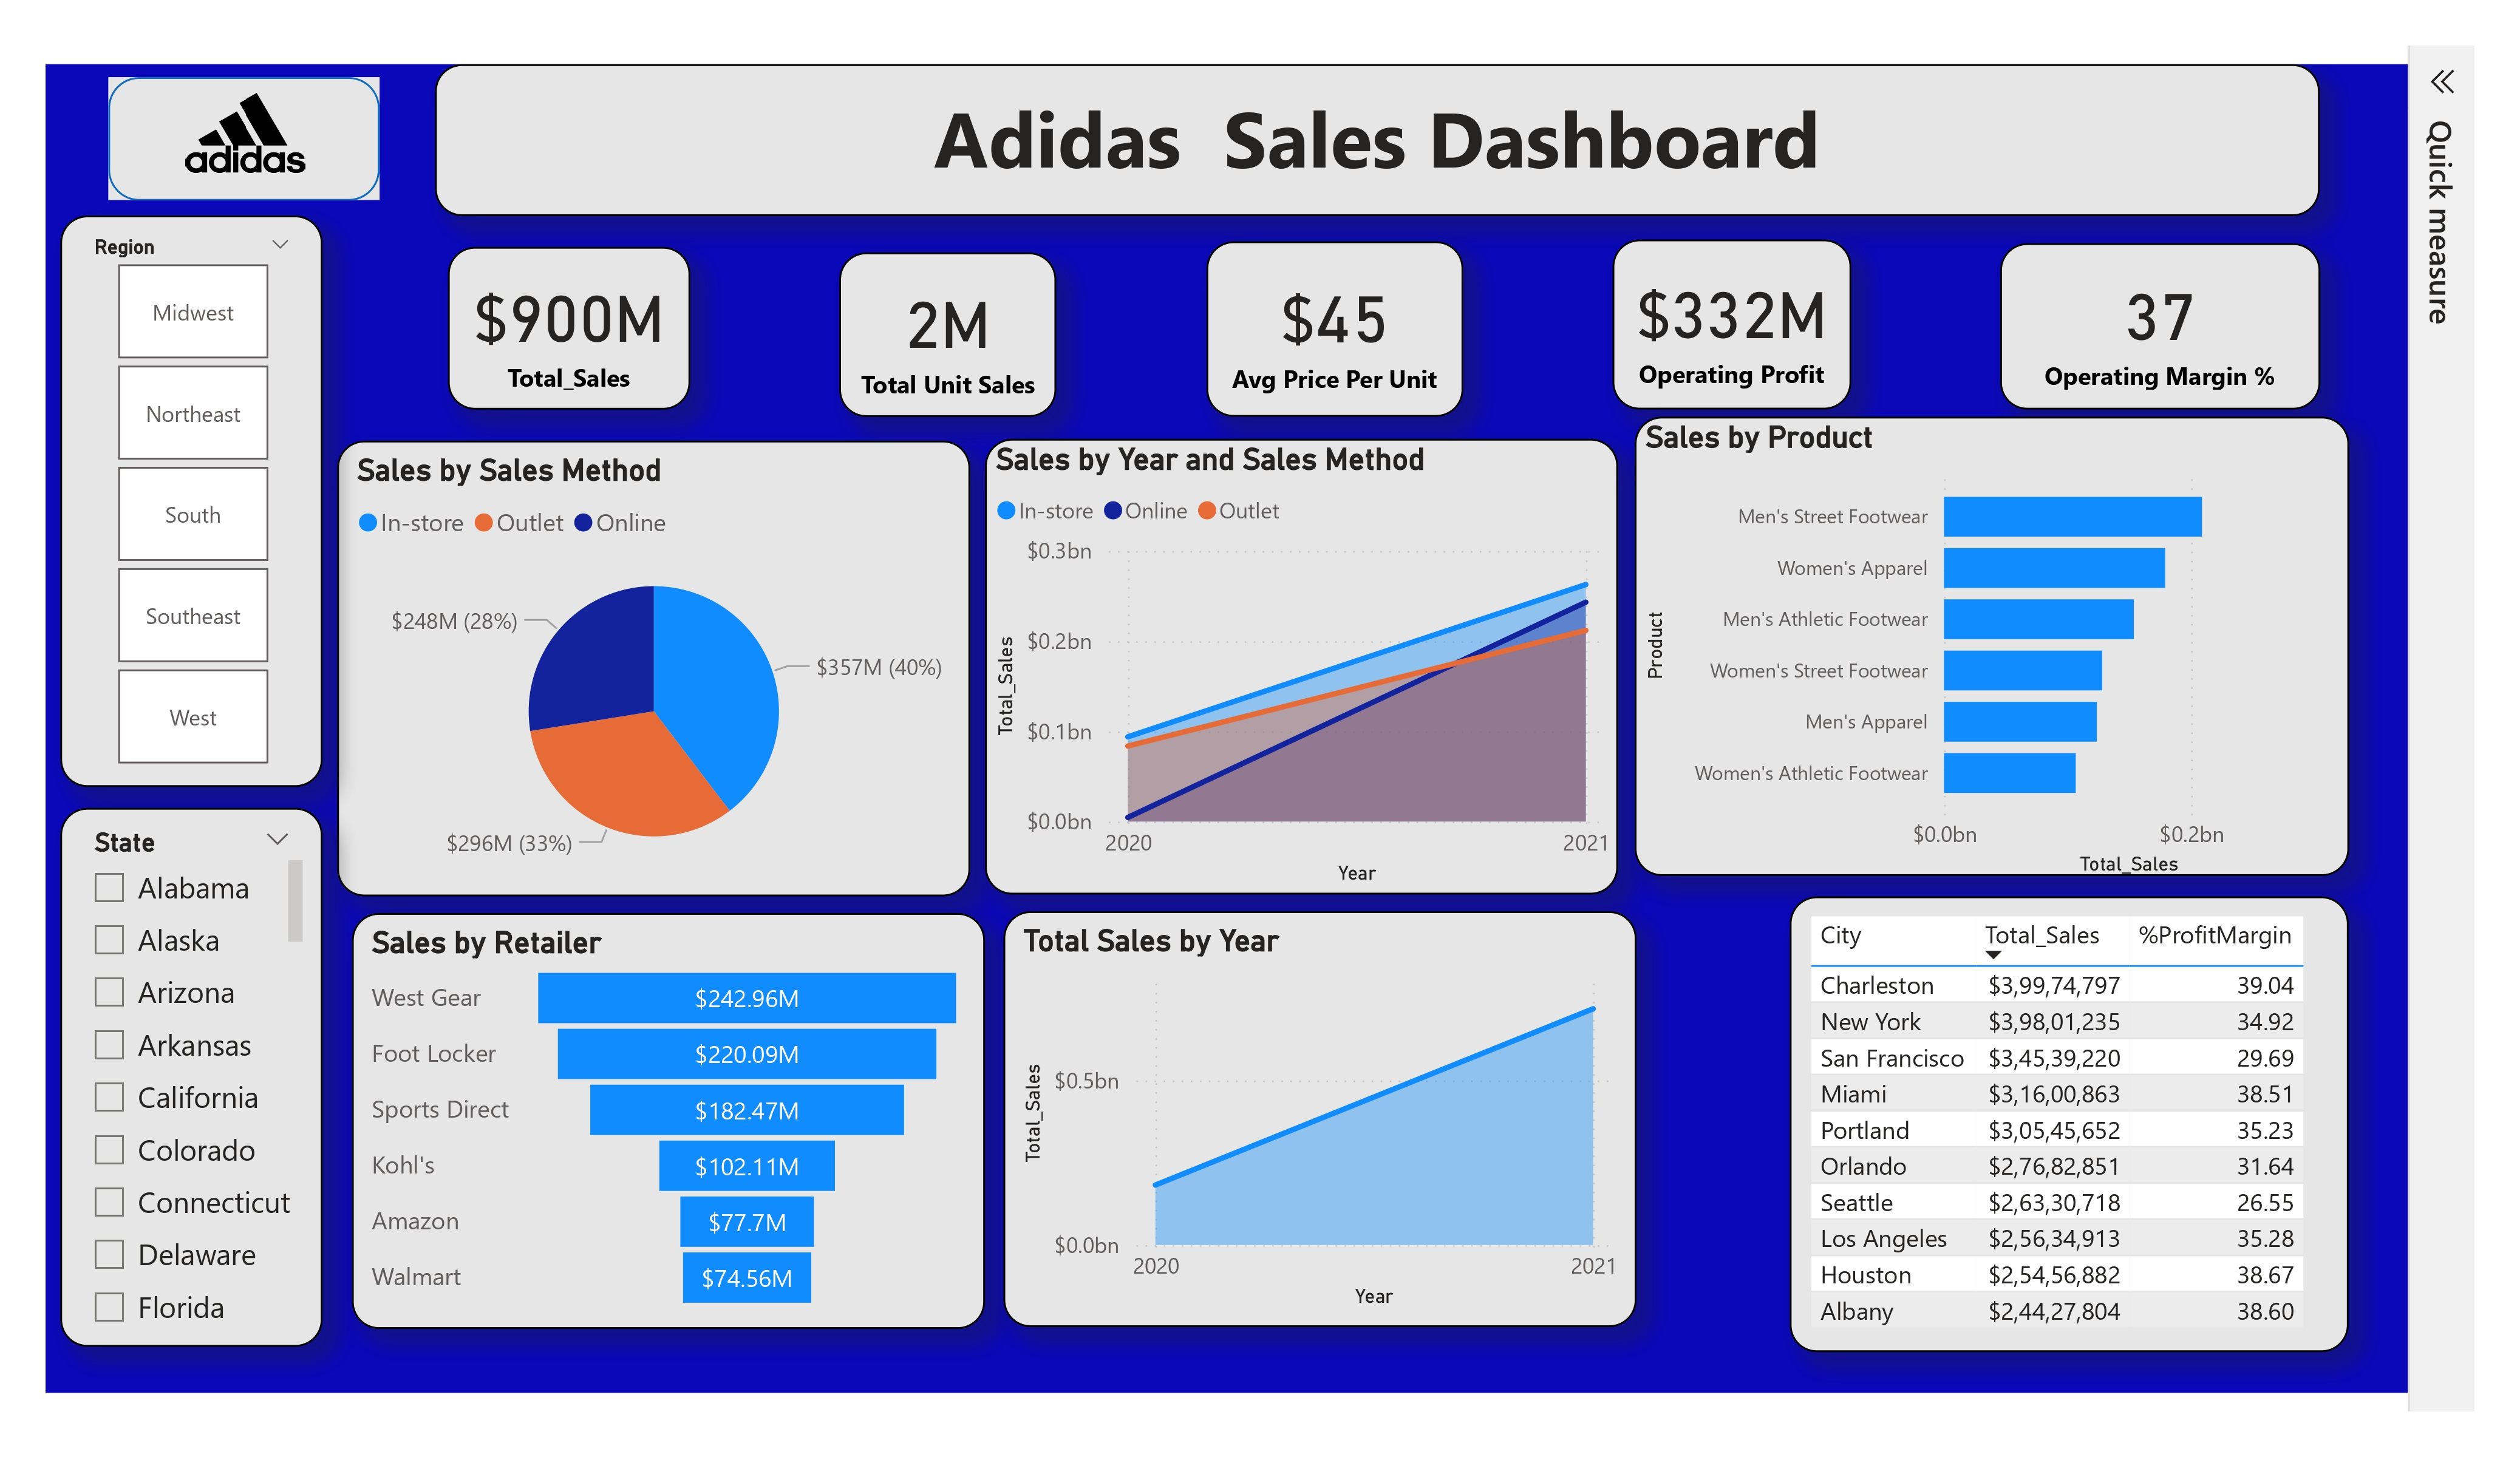

What the dashboard file says about the page in this screenshot:
{"tool":"powerbi","page":{"name":"Page 1","canvas":[1280,720],"ordinal":0},"visuals":[{"type":"textbox","box":[215.3,0,1041.8,83.7],"z":0},{"type":"card","fields":{"Values":["Data Sales Adidas.Total_Sales"]},"box":[222.4,101,133.7,89.8],"z":1000},{"type":"card","fields":{"Values":["Data Sales Adidas.TotalUnitSold"]},"box":[438.8,104.1,120.4,90.8],"z":2000},{"type":"card","fields":{"Values":["Data Sales Adidas.OperatingProfit"]},"box":[866.3,96.9,131.6,93.9],"z":3000},{"type":"card","fields":{"Values":["Data Sales Adidas.AvgPrzPerUnit"]},"box":[641.8,98,141.8,96.9],"z":4000},{"type":"card","fields":{"Values":["Data Sales Adidas.%OperatingMargin"]},"box":[1080.6,99,176.5,91.8],"z":5000},{"type":"pieChart","title":"Sales by Sales Method","fields":{"Category":["Data Sales Adidas.Sales Method"],"Y":["Data Sales Adidas.Total_Sales"]},"box":[161.2,208.7,350.1,251.6],"z":6000},{"type":"areaChart","title":"Sales by Year and Sales Method","fields":{"Category":["Date.Date.Variation.Date Hierarchy.Year","Date.Date.Variation.Date Hierarchy.Quarter","Date.Date.Variation.Date Hierarchy.Month","Date.Date.Variation.Date Hierarchy.Day"],"Y":["Data Sales Adidas.Total_Sales"],"Series":["Data Sales Adidas.Sales Method"]},"box":[519.4,206.9,350.1,251.6],"z":7000},{"type":"barChart","title":"Sales by Product","fields":{"Category":["Data Sales Adidas.Product"],"Y":["Data Sales Adidas.Total_Sales"]},"box":[878.6,194.9,394.9,254.1],"z":8000},{"type":"funnel","title":"Sales by Retailer","fields":{"Category":["Data Sales Adidas.Retailer"],"Y":["Data Sales Adidas.Total_Sales"]},"box":[169.4,469.4,350,229.6],"z":9000},{"type":"areaChart","title":"Total Sales by Year","fields":{"Category":["Date.Date.Variation.Date Hierarchy.Year","Date.Date.Variation.Date Hierarchy.Quarter","Date.Date.Variation.Date Hierarchy.Month","Date.Date.Variation.Date Hierarchy.Day"],"Y":["Data Sales Adidas.Total_Sales"]},"box":[529.6,468.4,350,229.6],"z":10000},{"type":"tableEx","fields":{"Values":["Data Sales Adidas.City","Data Sales Adidas.Total_Sales","Data Sales Adidas.%ProfitMargin"]},"box":[964.3,460.2,309.2,252],"z":11000},{"type":"slicer","fields":{"Values":["Data Sales Adidas.Region"]},"box":[8.2,83.7,144.9,316.3],"z":12000},{"type":"slicer","fields":{"Values":["Data Sales Adidas.State"]},"box":[8.2,411.2,144.9,298],"z":12001},{"type":"shape","box":[34.7,7.1,150,68.4],"z":12002},{"type":"image","box":[72.4,0,75.5,75.5],"z":12003}]}

Visuals, with their boxes on the page's 1280x720 design canvas (x1, y1, x2, y2). These are canvas units, not pixel positions in the 2520x1457 screenshot, which may show the page scaled, cropped or inside an application window:
textbox: Rect(215, 0, 1257, 84)
card - Data Sales Adidas.Total_Sales: Rect(222, 101, 356, 191)
card - Data Sales Adidas.TotalUnitSold: Rect(439, 104, 559, 195)
card - Data Sales Adidas.OperatingProfit: Rect(866, 97, 998, 191)
card - Data Sales Adidas.AvgPrzPerUnit: Rect(642, 98, 784, 195)
card - Data Sales Adidas.%OperatingMargin: Rect(1081, 99, 1257, 191)
"Sales by Sales Method" pieChart: Rect(161, 209, 511, 460)
"Sales by Year and Sales Method" areaChart: Rect(519, 207, 870, 458)
"Sales by Product" barChart: Rect(879, 195, 1274, 449)
"Sales by Retailer" funnel: Rect(169, 469, 519, 699)
"Total Sales by Year" areaChart: Rect(530, 468, 880, 698)
tableEx - Data Sales Adidas.City x Data Sales Adidas.Total_Sales: Rect(964, 460, 1274, 712)
slicer - Data Sales Adidas.Region: Rect(8, 84, 153, 400)
slicer - Data Sales Adidas.State: Rect(8, 411, 153, 709)
shape: Rect(35, 7, 185, 76)
image: Rect(72, 0, 148, 76)
